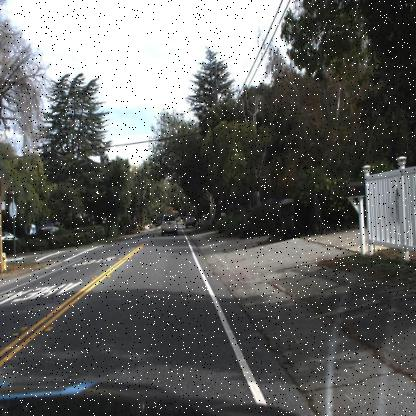car: (160, 212, 180, 236), (184, 212, 198, 228)
